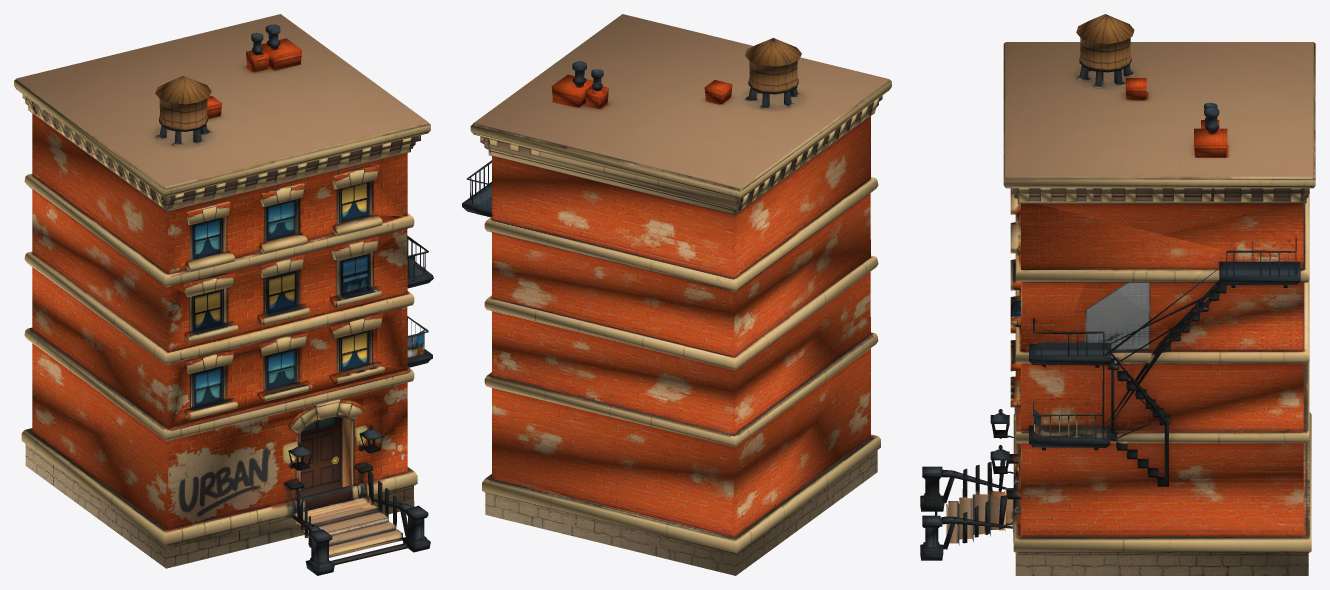
3 views of the same model, side by side, from view 1: azimuth 30°, elevation 25°; view 2: azimuth 150°, elevation 25°; view 3: azimuth 270°, elevation 25° (orthographic). The views are drawn at different scales.
Visible parts, largest first — view 1: tripo_node_b9e1be86-c086-438a-8034-69d5f52d2bc9; view 2: tripo_node_b9e1be86-c086-438a-8034-69d5f52d2bc9; view 3: tripo_node_b9e1be86-c086-438a-8034-69d5f52d2bc9.
Part boxes in pixels (x1,y1,x2,y2): tripo_node_b9e1be86-c086-438a-8034-69d5f52d2bc9: (14,14,433,575); tripo_node_b9e1be86-c086-438a-8034-69d5f52d2bc9: (462,14,891,575); tripo_node_b9e1be86-c086-438a-8034-69d5f52d2bc9: (920,14,1315,575).
Bounding box in the file's own units: 0.6621 × 0.998 × 0.7676.
Materials: 1 (1 with a texture image).
